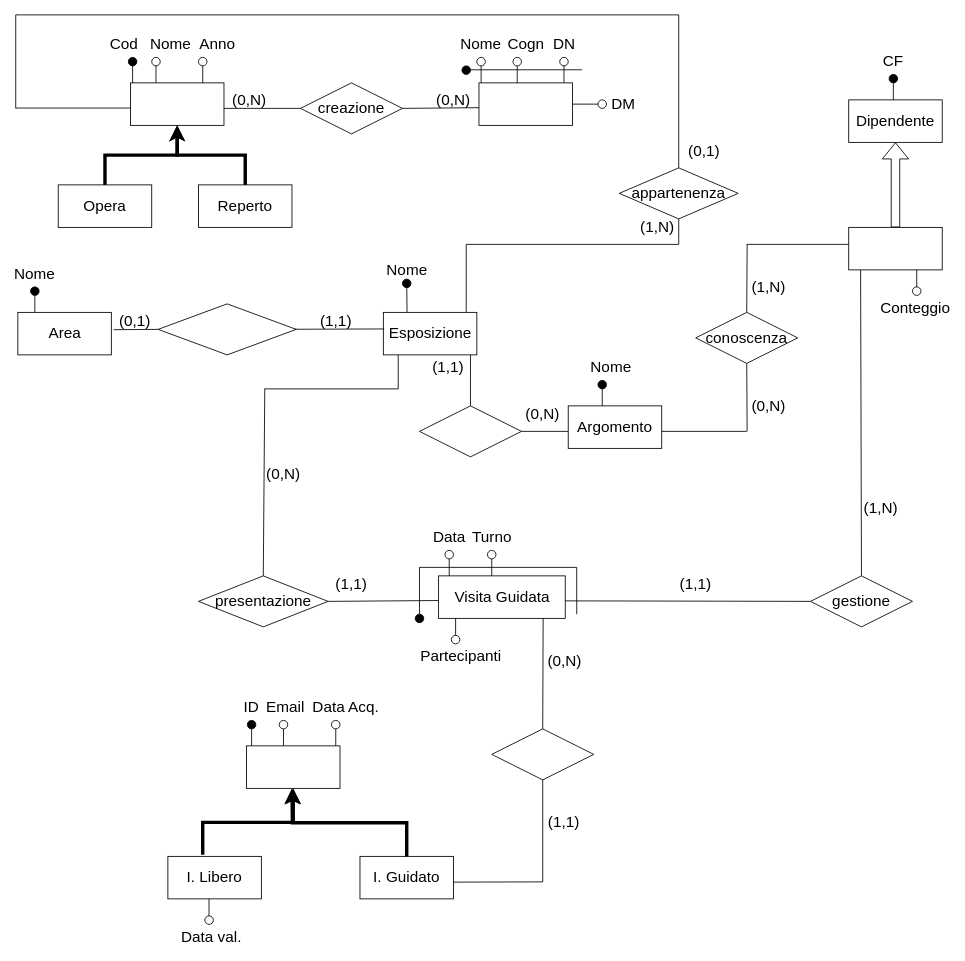
Some shapes in this 965 by 961 pixel diagram are drawn without their labels. Here are the shapes that lost their labels. From the top down, the centre of each, then its label:
At pixel 177 103: "Artefatto".
At pixel 525 103: "Artista".
At pixel 895 248: "Guida".
At pixel 226 329: "ubicazione".
At pixel 470 431: "trattazione".
At pixel 293 766: "Biglietto".
At pixel 542 754: "riferimento".
